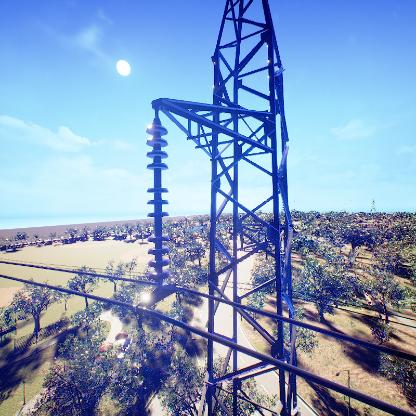insulator: (142, 122, 174, 286)
